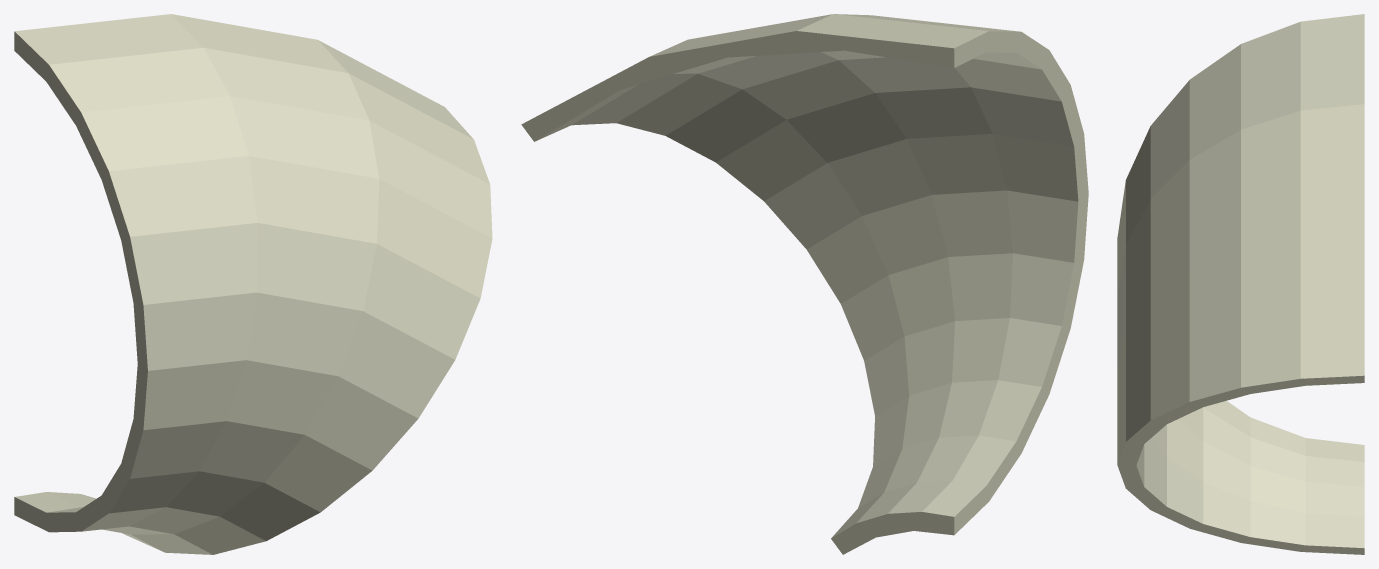
File: section_019.obj
3 renders of one model, left to right at view 1: azimuth 30°, elevation 25°; view 2: azimuth 150°, elevation 25°; view 3: azimuth 270°, elevation 25°, orthographic. The views are drawn at different scales.
Bounding box in the file's own units: 24.2 × 28.5 × 13.
